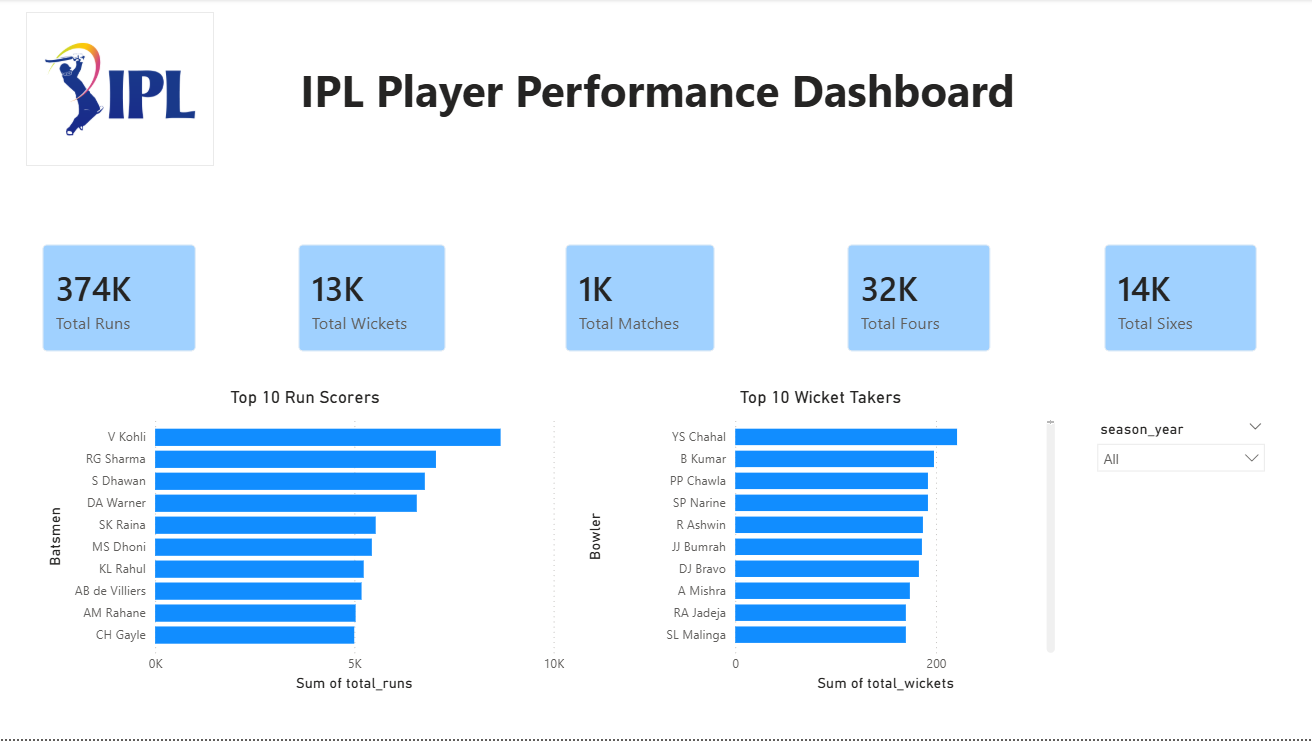

This screenshot's page, from the dashboard's own definition file:
{"tool":"powerbi","page":{"name":"Overview","canvas":[1280,720],"ordinal":0},"visuals":[{"type":"cardVisual","fields":{"Data":["Sum(season_summary.total_runs)"]},"box":[24.3,221.8,183.8,138.1],"z":0},{"type":"cardVisual","fields":{"Data":["Sum(season_summary.total_wickets)"]},"box":[273.3,221.8,177,138.1],"z":1000},{"type":"cardVisual","fields":{"Data":["Sum(season_summary.total_matches)"]},"box":[533,221.8,179.9,138.1],"z":2000},{"type":"cardVisual","fields":{"Data":["Sum(season_summary.total_fours)"]},"box":[807.3,221.8,173.1,138.1],"z":3000},{"type":"cardVisual","fields":{"Data":["Sum(season_summary.total_sixes)"]},"box":[1057.3,221.8,182.9,138.1],"z":4000},{"type":"textbox","box":[274.3,54.5,730.5,95.3],"z":5000},{"type":"image","box":[25.3,12.6,182.9,149.8],"z":6000},{"type":"clusteredBarChart","title":"Top 10 Run Scorers","fields":{"Category":["batting_stats.batter"],"Y":["Sum(batting_stats.total_runs)"]},"box":[39.9,377.4,513.6,300.5],"z":7000},{"type":"barChart","title":"Top 10 Wicket Takers","fields":{"Category":["bowling_stats.bowler"],"Y":["Sum(bowling_stats.total_wickets)"]},"box":[565.1,377.4,465.9,300.5],"z":8000},{"type":"slicer","fields":{"Values":["season_summary.season_year"]},"box":[1057.3,404.6,182.9,187.7],"z":9000}]}

Visuals, with their boxes in screenshot pixels (x1, y1, x2, y2), scaled from the page's 1280x720 canvas onto the 1312x741 screenshot:
cardVisual - Sum(season_summary.total_runs): pyautogui.locateOnScreen(25, 228, 213, 370)
cardVisual - Sum(season_summary.total_wickets): pyautogui.locateOnScreen(280, 228, 462, 370)
cardVisual - Sum(season_summary.total_matches): pyautogui.locateOnScreen(546, 228, 731, 370)
cardVisual - Sum(season_summary.total_fours): pyautogui.locateOnScreen(827, 228, 1005, 370)
cardVisual - Sum(season_summary.total_sixes): pyautogui.locateOnScreen(1084, 228, 1271, 370)
textbox: pyautogui.locateOnScreen(281, 56, 1030, 154)
image: pyautogui.locateOnScreen(26, 13, 213, 167)
"Top 10 Run Scorers" clusteredBarChart: pyautogui.locateOnScreen(41, 388, 567, 698)
"Top 10 Wicket Takers" barChart: pyautogui.locateOnScreen(579, 388, 1057, 698)
slicer - season_summary.season_year: pyautogui.locateOnScreen(1084, 416, 1271, 610)
